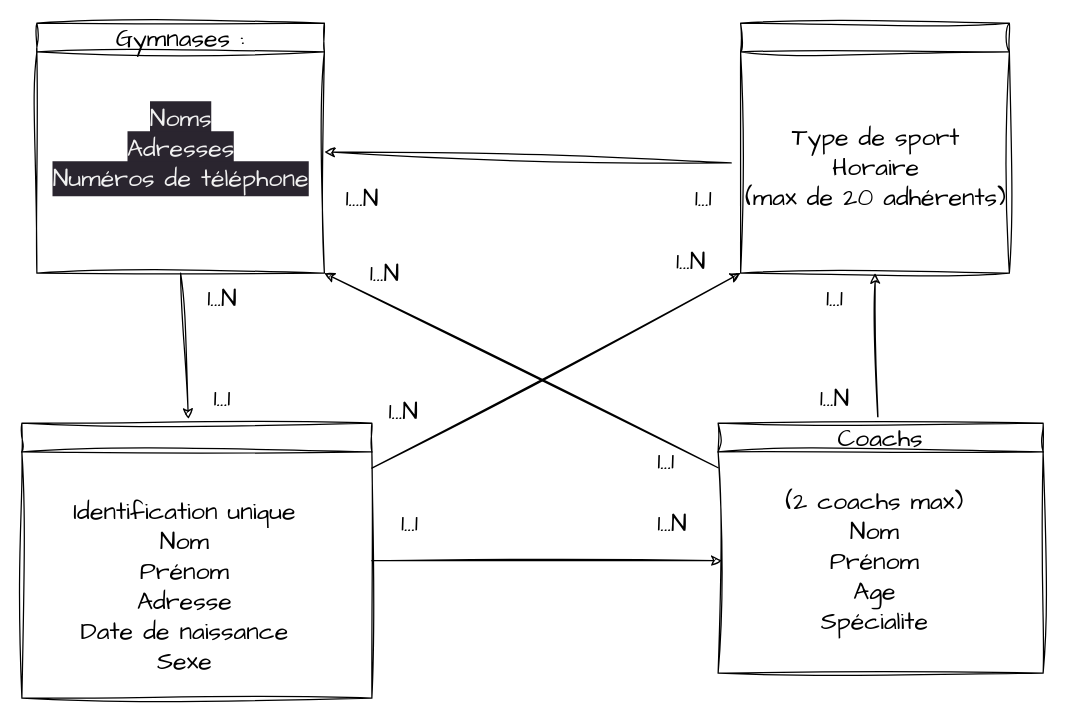
This 1065x720 diagram has some shape labels left out. Here are the shapes that lost their labels. From the top down, the box of each, then its label:
(739, 22, 1009, 273): Séances
(21, 422, 372, 698): Membres :
